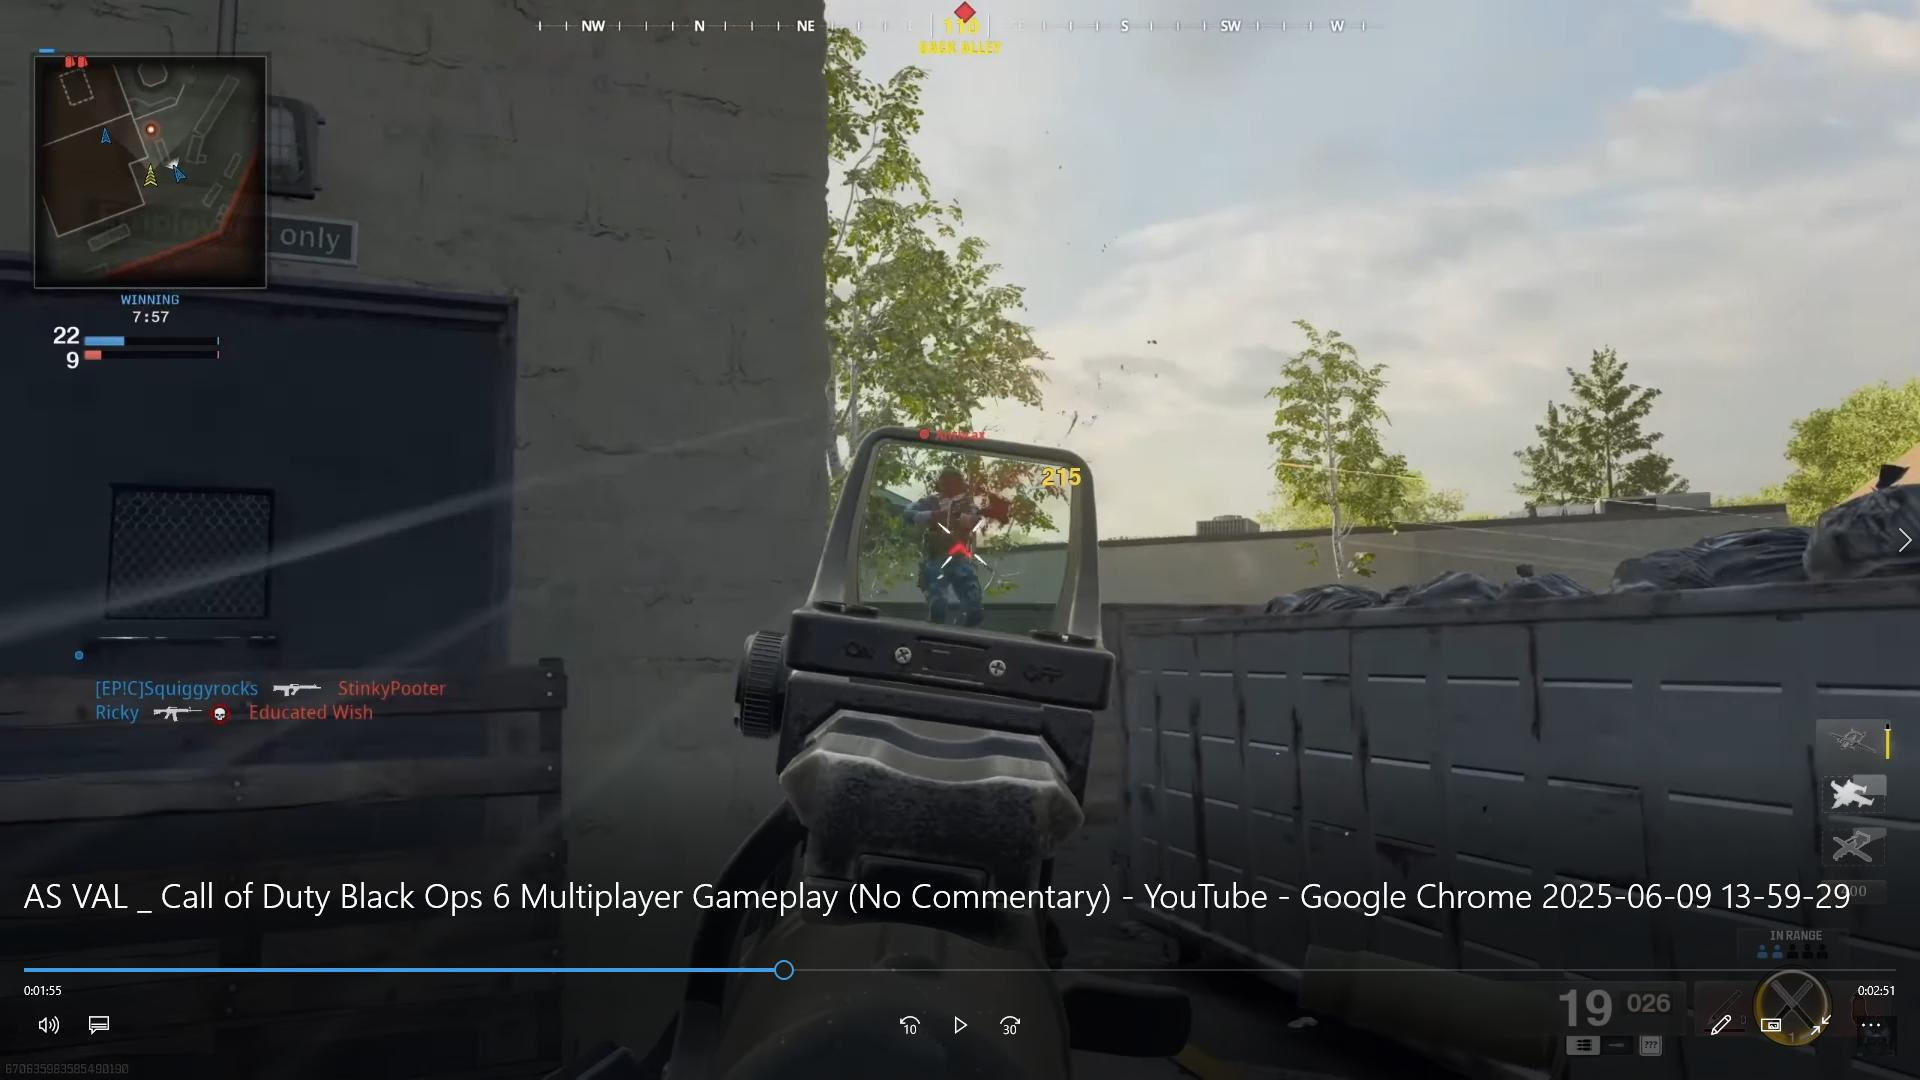Enemy: (914, 467, 978, 620)
